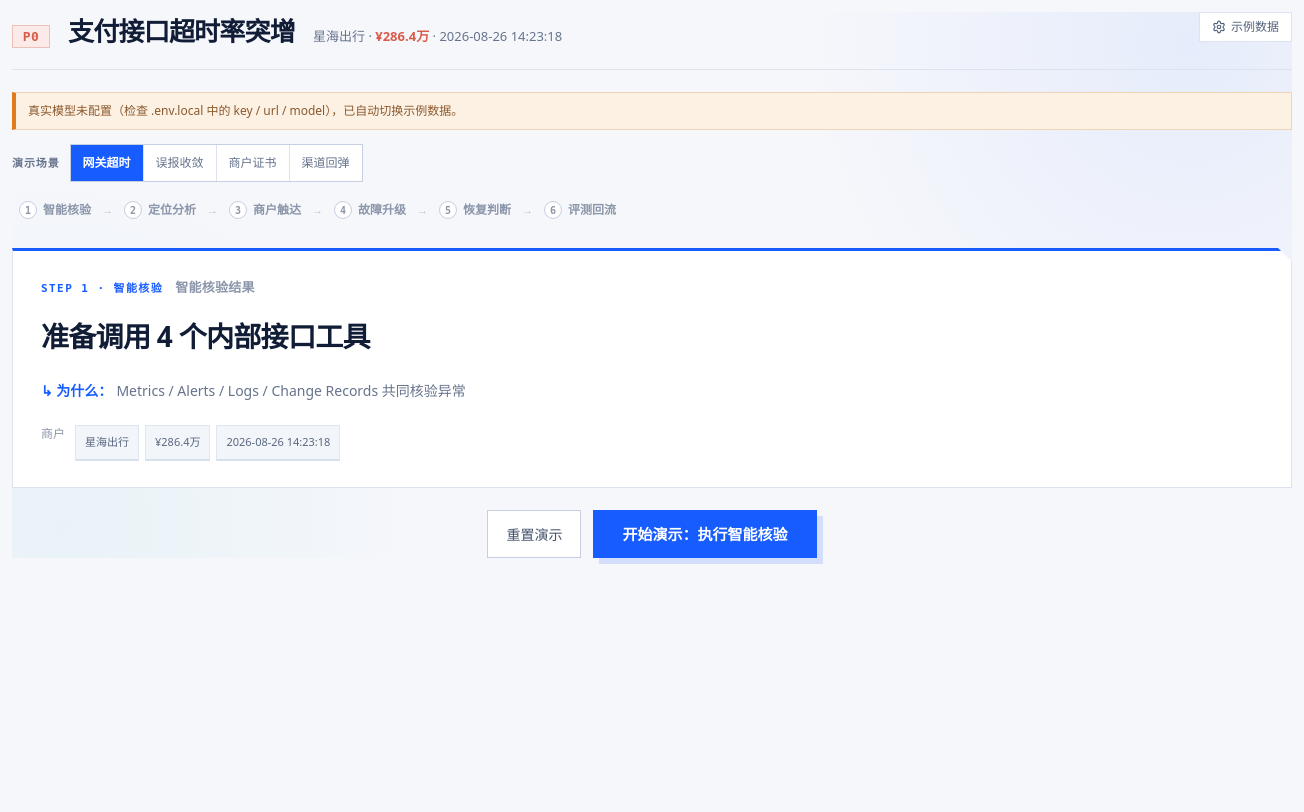
Test: GuidedIncidentDemo › disables the real LLM entry before configuration and falls back to sample data
Expected: the text "真实模型未配置（检查 .env.local 中的 key / url / model），已自动切换示例数据。" is shown, [12,92,1292,130]
Expected: the button "开始演示：执行智能核验" is shown, [594,510,816,558]
浮层打开后真实模型按钮被禁用并提示未配置
What coordinates should you click on to do the following:
click the button with aria-label "运行模式设置"
I would click on:
 (1246, 27)
Its box is [1199,12,1292,42].
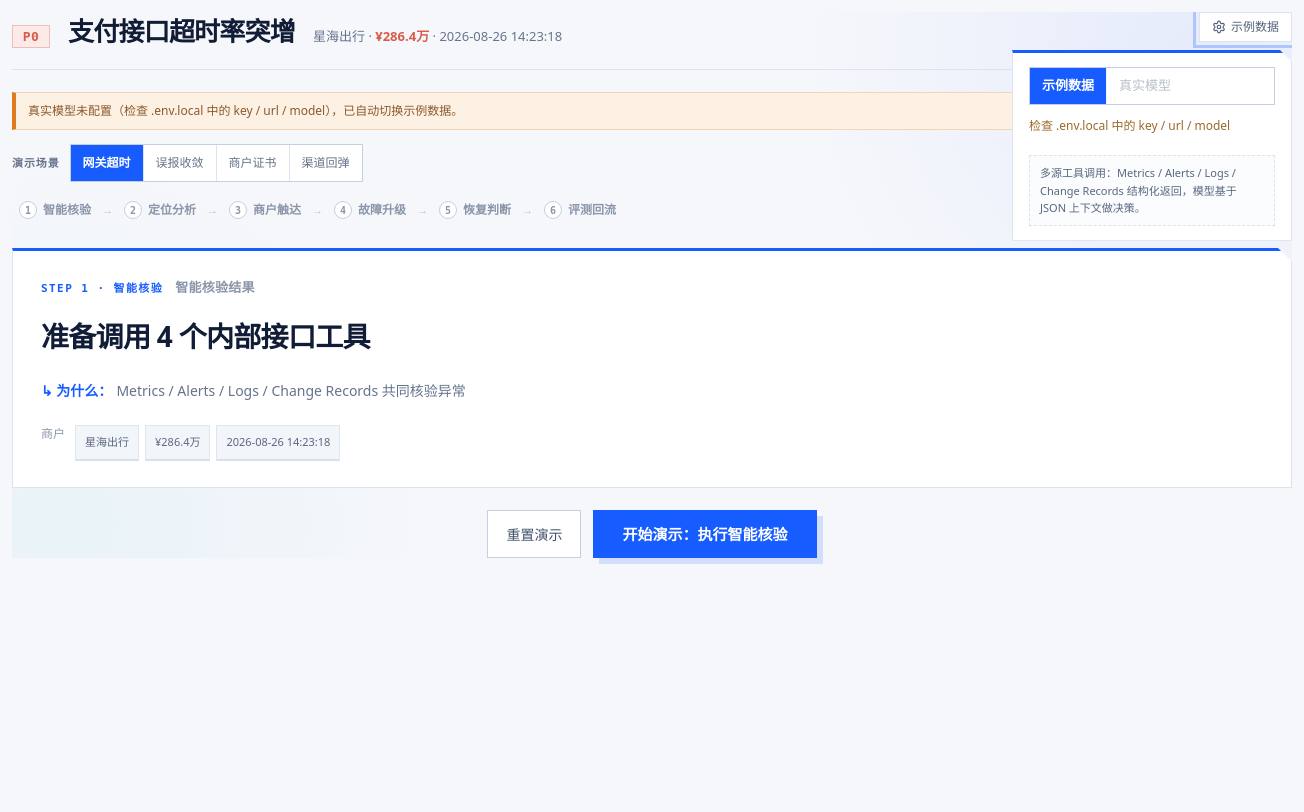
Expected: the button "真实模型" is disabled, [1106,68,1183,104]
Expected: the text "检查 .env.local 中的 key / url / model" is shown, [1029,117,1230,134]
